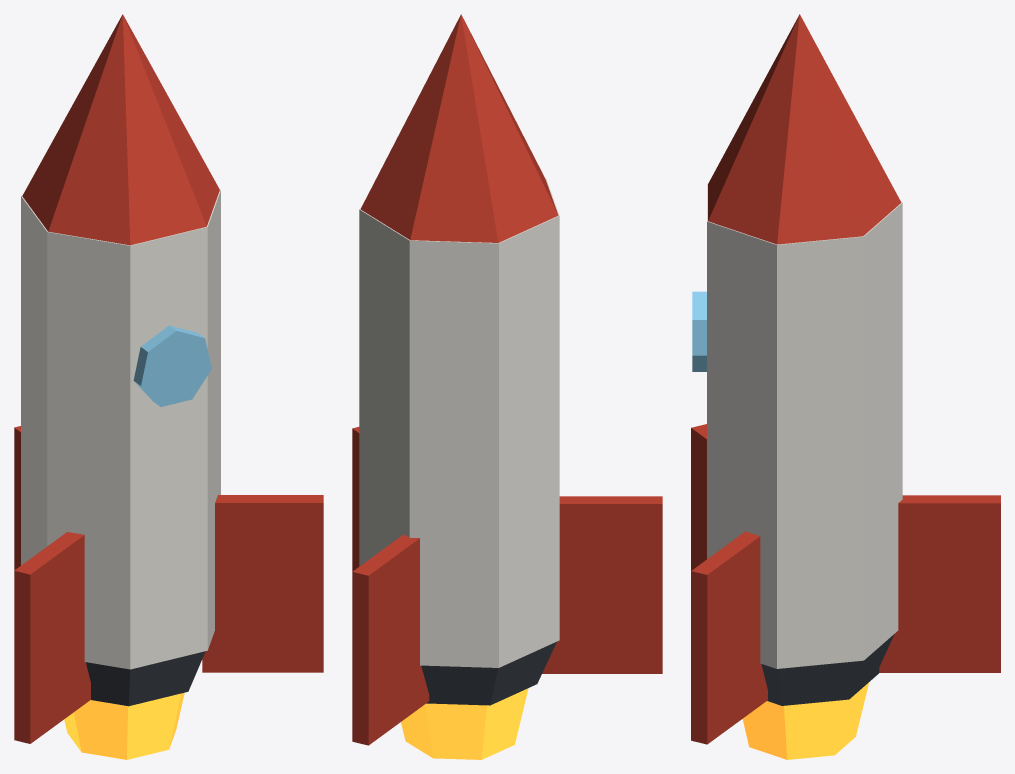
The model's file is rocket-lod1.glb.
3 renders of one model, left to right at view 1: azimuth 30°, elevation 25°; view 2: azimuth 150°, elevation 25°; view 3: azimuth 270°, elevation 25°, orthographic.
Parts seen in each view (by area): view 1: rocket; view 2: rocket; view 3: rocket.
Part boxes in pixels (x1=…): rocket: x1=14, y1=14, x2=323, y2=759; rocket: x1=352, y1=14, x2=662, y2=759; rocket: x1=691, y1=14, x2=1000, y2=759.
Size of the model in its own units: 0.7648 by 1.71 by 0.6623.
